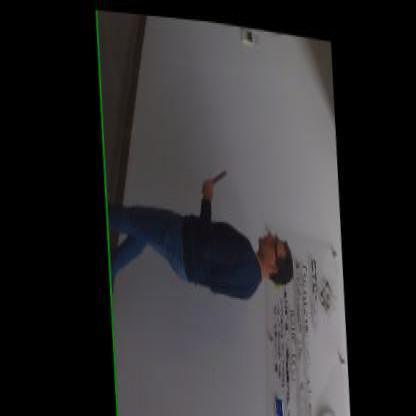knife: (195, 159, 227, 192)
